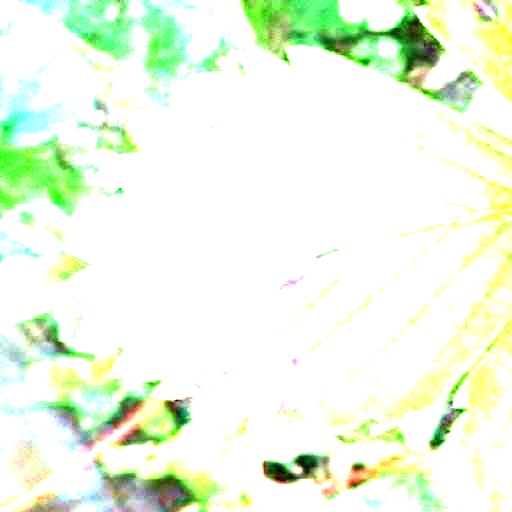Leaf Spot: (59, 48, 511, 443)
